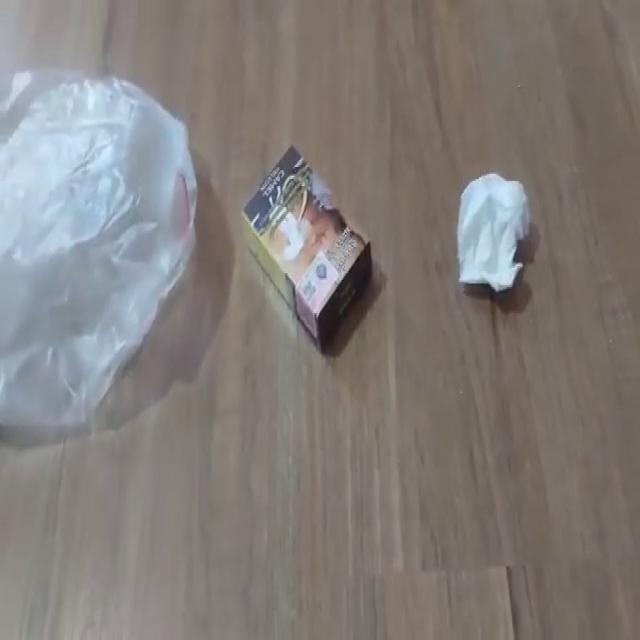Anorganik: (1, 64, 202, 435)
Organik: (239, 139, 376, 364), (454, 165, 534, 299)
